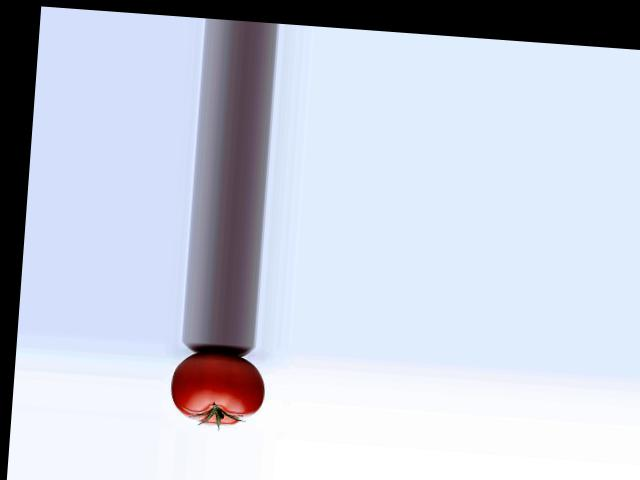tomato: (168, 349, 267, 427)
